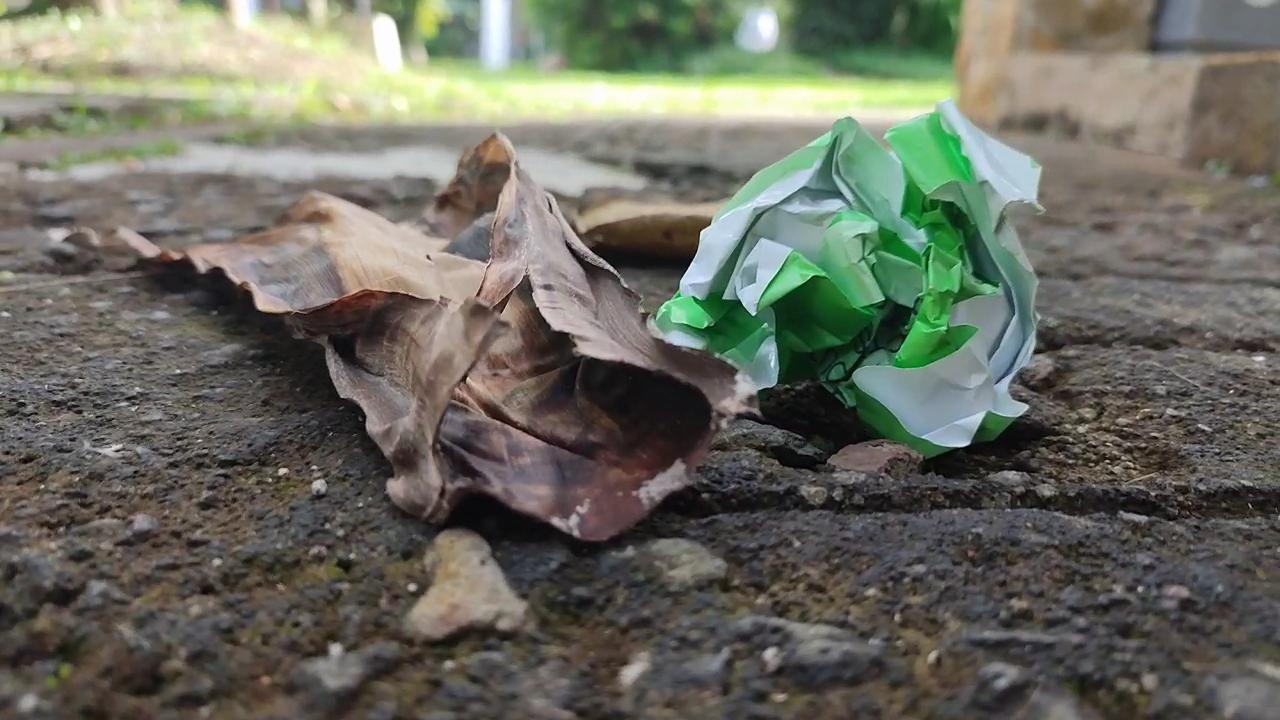Paper: (683, 94, 1047, 467)
